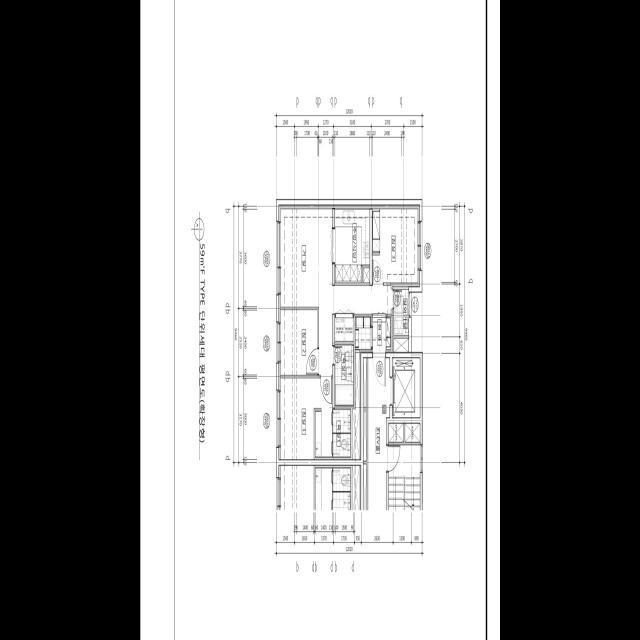background: (140, 0, 500, 640)
space_bedroom: (279, 379, 332, 460), (372, 205, 419, 287), (279, 309, 317, 375)
space_front: (355, 317, 392, 352)
space_kitchen: (335, 205, 369, 283)
space_living_room: (279, 206, 392, 376)
space_other: (352, 353, 360, 460), (335, 317, 354, 341), (394, 338, 408, 352), (363, 269, 369, 283)
space_outdoor_room: (394, 289, 408, 335)
space_toilet: (315, 409, 350, 458), (335, 343, 353, 405)
